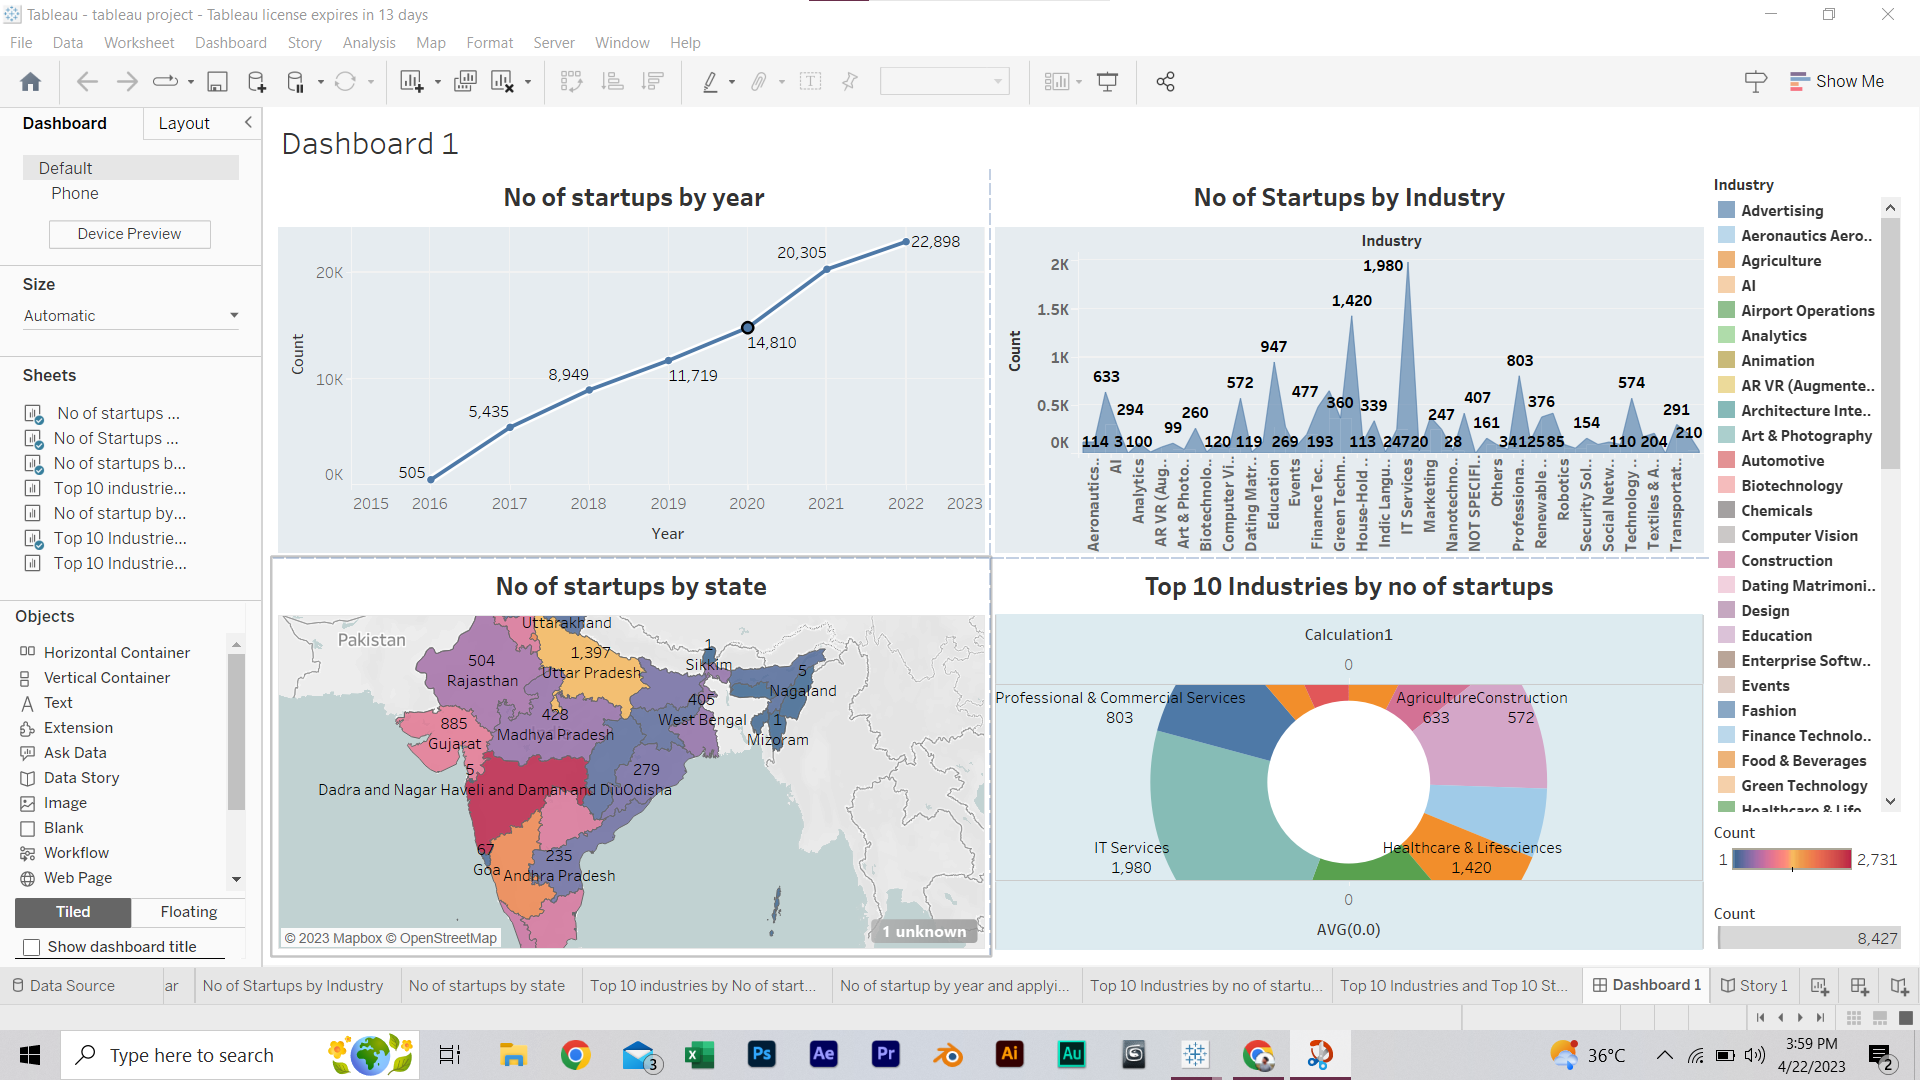

This screenshot's page, from the dashboard's own definition file:
{"tool":"tableau","page":{"name":"Dashboard 1","canvas":[1000,1000],"units":"permille","ordinal":0},"visuals":[{"type":"title","box":[6,11.6,987.9,61.1]},{"type":"worksheet","title":" No of startups by year","mark":"Automatic","rows":["Count"],"cols":["Year"],"box":[6,72.8,433.6,452.7]},{"type":"worksheet","title":"No of Startups by Industry","mark":"Area","rows":["Count"],"cols":["Industry"],"box":[439.6,72.8,433.6,452.7]},{"type":"legend","title":"No of Startups by Industry","param":"[federated.1yxx5j61ofwvk512lukms04gukl7].[none:Industry:nk]","box":[873.2,72.8,120.8,754]},{"type":"worksheet","title":"No of startups by state","mark":"Automatic","box":[6,525.5,433.6,462.9]},{"type":"worksheet","title":"Top 10 Industries by no of startups","mark":"Pie","cols":["Calculation_1225542066414284809","Calculation_1225542066414514186"],"box":[439.6,525.5,433.6,462.9]},{"type":"legend","title":"No of startups by state","param":"[federated.1yxx5j61ofwvk512lukms04gukl7].[sum:Count:qk]","box":[873.2,826.8,120.8,94.6]},{"type":"legend","title":"Top 10 Industries by no of startups","param":"[federated.1yxx5j61ofwvk512lukms04gukl7].[sum:Count:qk]","box":[873.2,921.4,120.8,67]}]}

Visuals, with their boxes on the dashboard's canvas, which has no fixed pixel size, in thousandths of its width and height (x1, y1, x2, y2). These are canvas units, not pixel positions in the 1920x1080 screenshot, which may show the page scaled, cropped or inside an application window:
title: l=6, t=12, r=994, b=73
" No of startups by year" worksheet: l=6, t=73, r=440, b=526
"No of Startups by Industry" worksheet (Area marks): l=440, t=73, r=873, b=526
"No of Startups by Industry" legend: l=873, t=73, r=994, b=827
"No of startups by state" worksheet: l=6, t=526, r=440, b=988
"Top 10 Industries by no of startups" worksheet (Pie marks): l=440, t=526, r=873, b=988
"No of startups by state" legend: l=873, t=827, r=994, b=921
"Top 10 Industries by no of startups" legend: l=873, t=921, r=994, b=988
